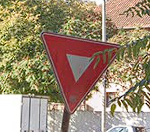cedeaza: (33, 23, 123, 119)
